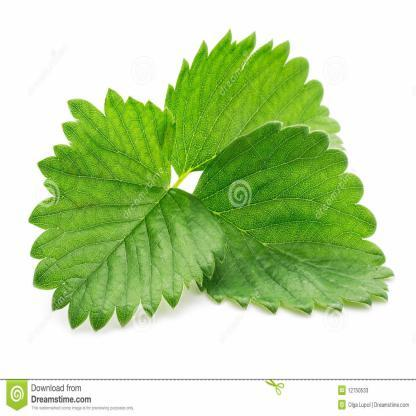Strawberry leaf: (30, 88, 231, 334), (183, 119, 394, 318), (160, 27, 348, 184)
